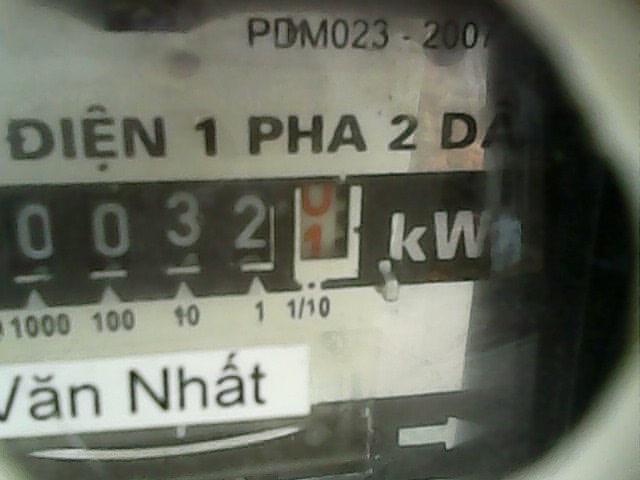phy_plate: (1, 174, 370, 305)
